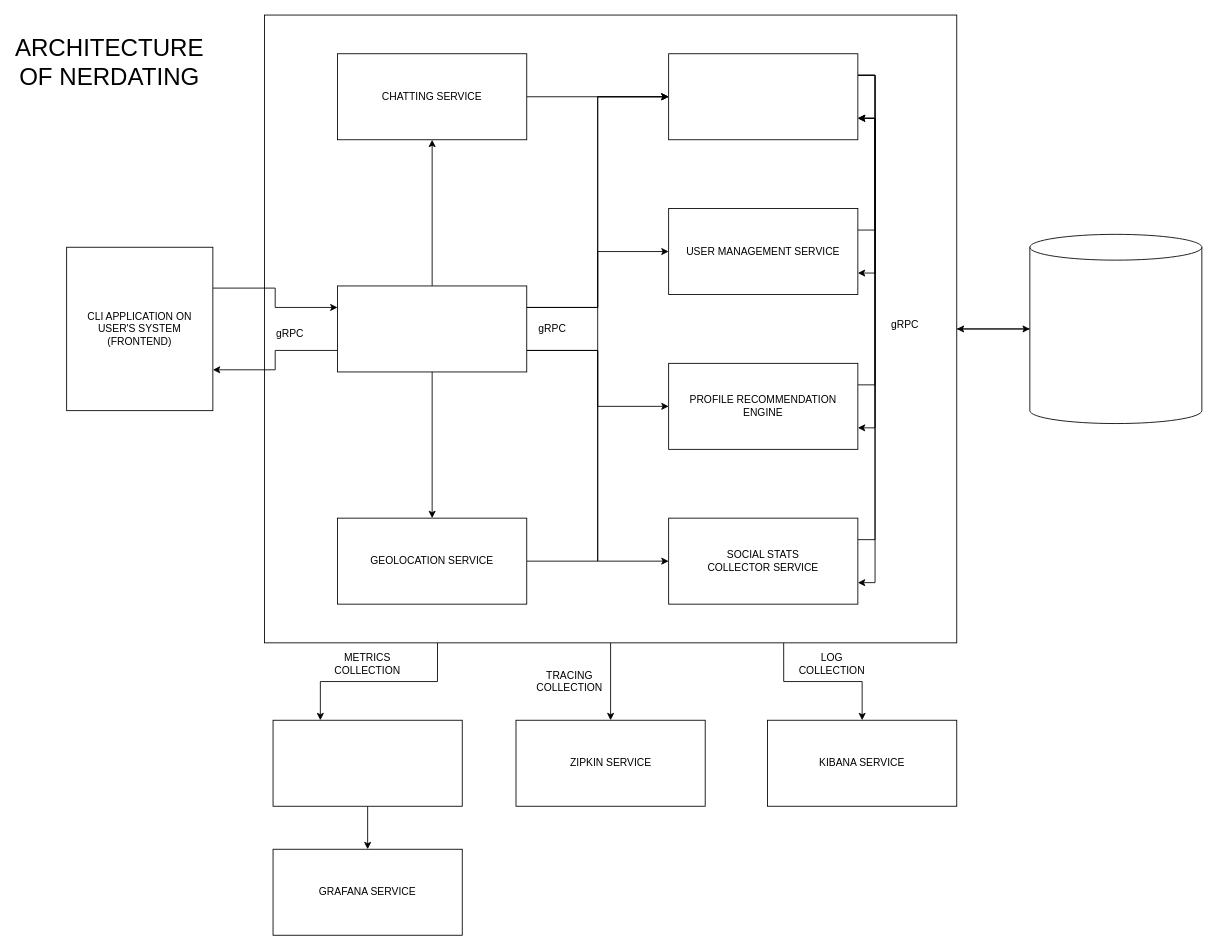
Some shapes in this 1217 by 950 pixel diagram are drawn without their labels. Each missing label, with the box of its shape:
AUTHENTICATION SERVICE: (668, 53, 858, 140)
GATEWAY SERVICE: (337, 285, 527, 372)
MANAGED DATABASE SERVICE: (1029, 233, 1202, 424)
PROMETHEUS SERVICE: (272, 719, 462, 806)
